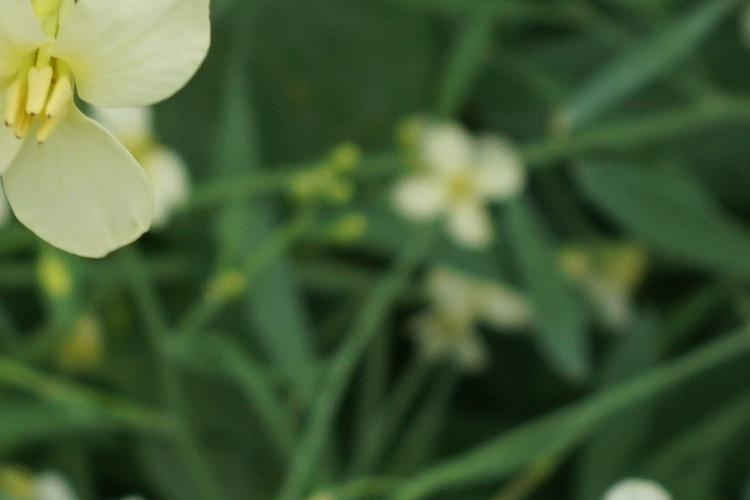white: (4, 2, 221, 254)
